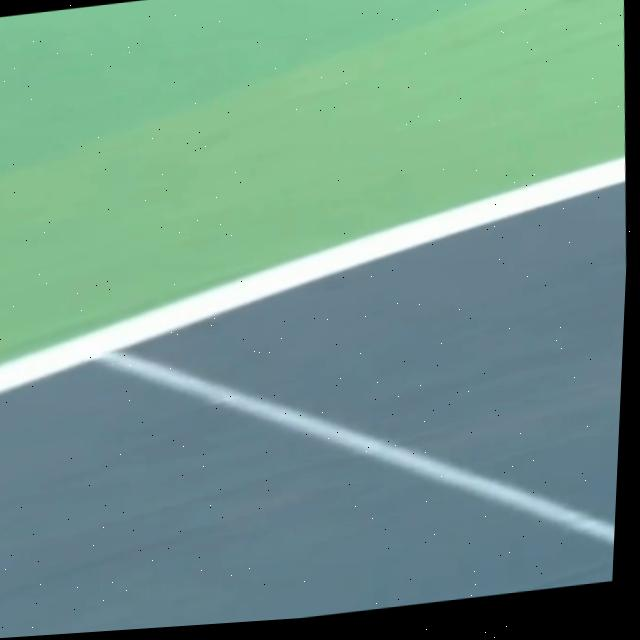right: (0, 158, 625, 391)
